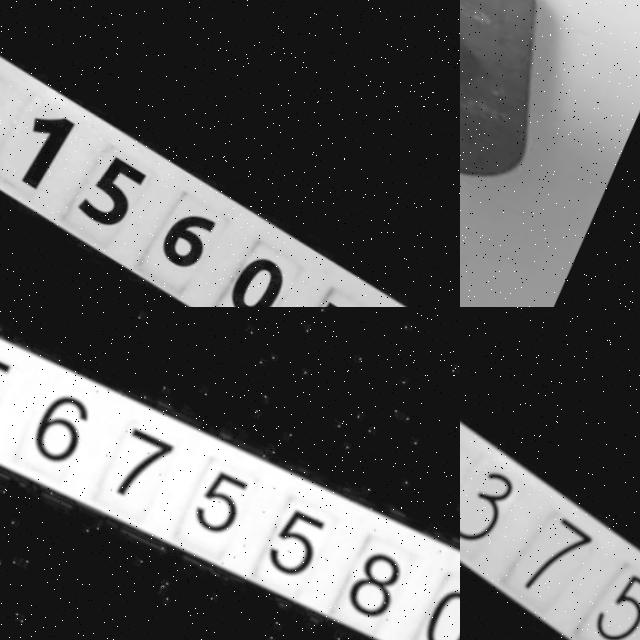0: (200, 230, 300, 307), (377, 552, 460, 640)
1: (0, 85, 81, 196)
3: (460, 444, 530, 560)
5: (221, 470, 357, 611), (150, 435, 277, 565), (54, 132, 159, 246), (0, 307, 48, 462), (569, 551, 640, 640)
6: (0, 352, 123, 495), (134, 183, 228, 288)
7: (63, 389, 205, 536), (493, 495, 603, 614), (277, 284, 371, 307)
8: (303, 515, 434, 640)
D: (460, 0, 608, 223)
